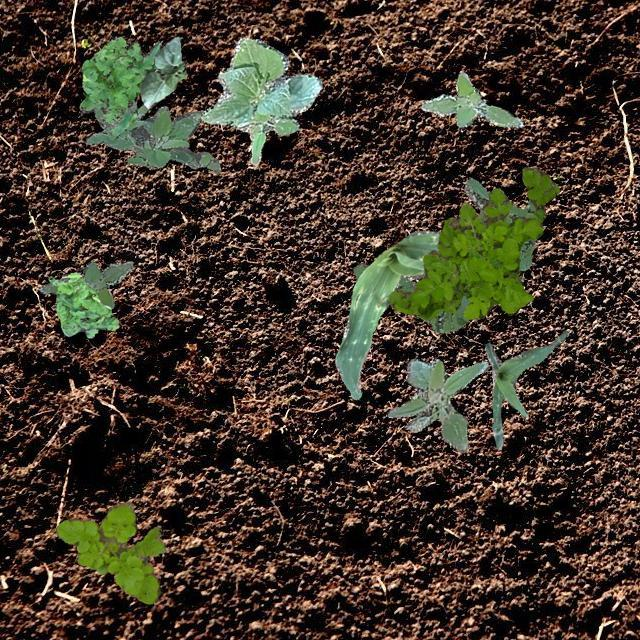crop: (333, 230, 439, 398), (200, 36, 320, 165), (484, 329, 566, 448), (138, 36, 182, 108)
weed: (352, 176, 534, 332), (388, 165, 558, 318), (54, 500, 164, 602), (78, 36, 186, 134), (86, 98, 220, 172), (387, 358, 488, 452), (420, 72, 522, 128), (38, 260, 132, 308), (48, 272, 118, 336)
